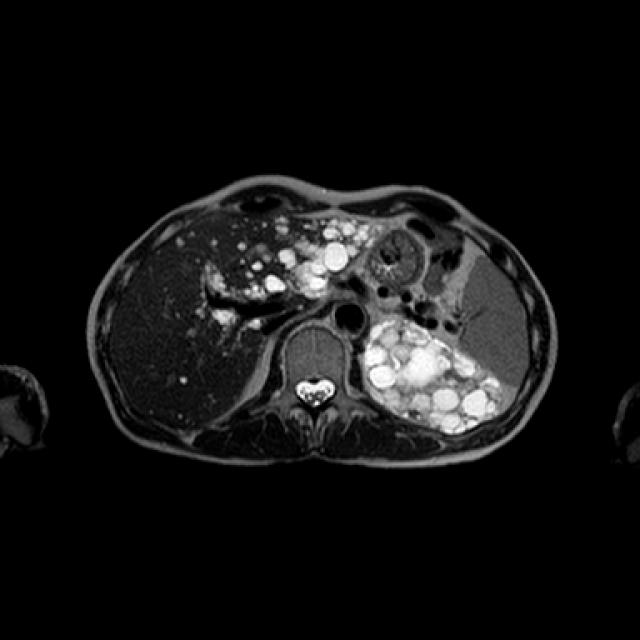sol: (363, 313, 508, 435)
